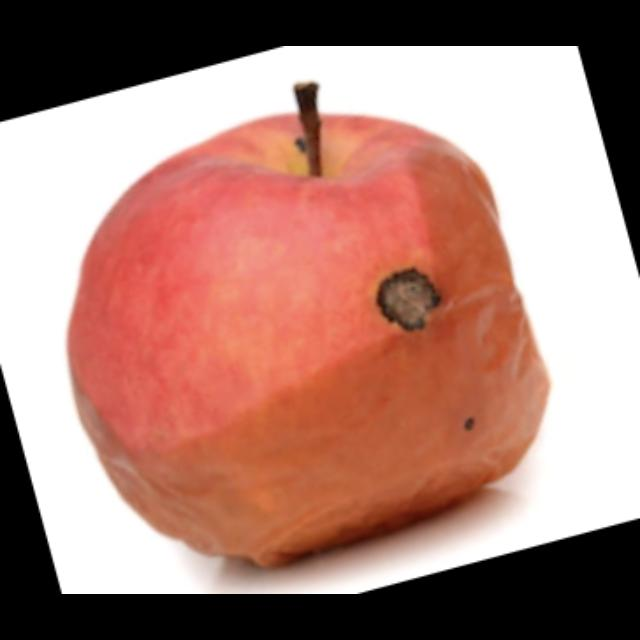Apel Segar: (89, 131, 360, 404)
Apel Tidak Segar: (64, 142, 558, 578)
